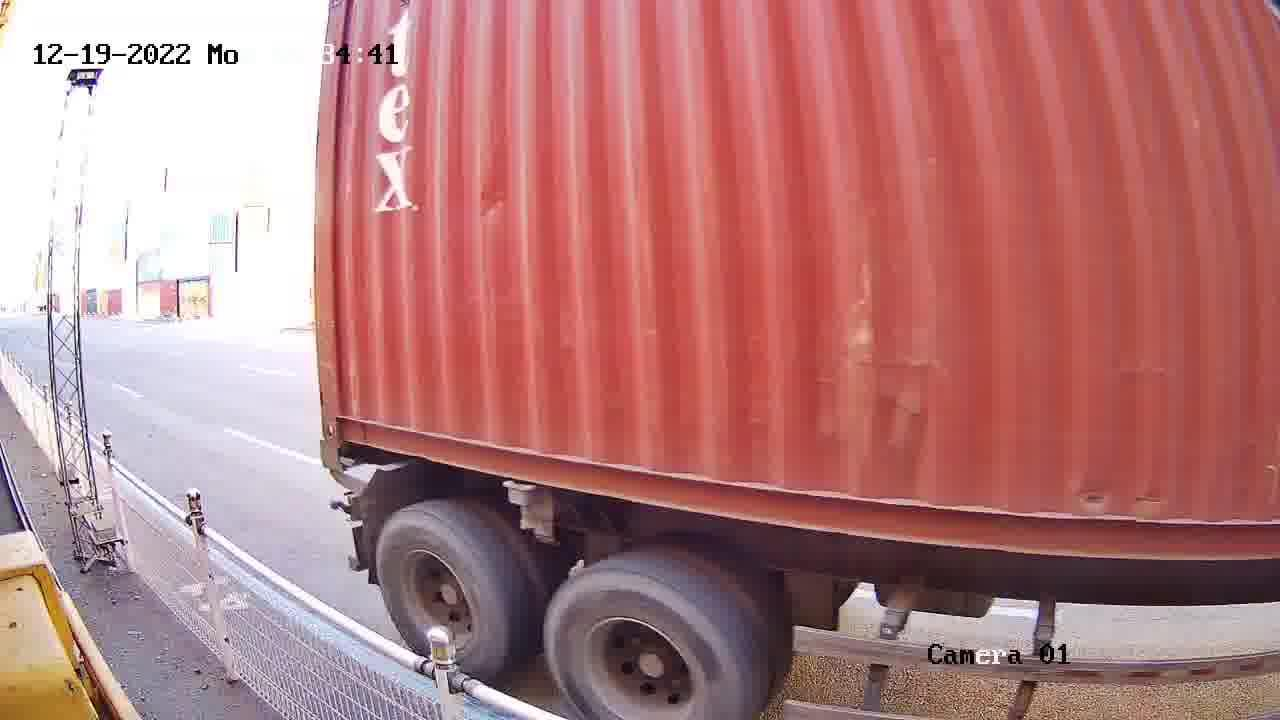Cone: (319, 440, 348, 473)
Hole_L: (322, 386, 371, 446)
Tire: (547, 577, 739, 716), (379, 516, 505, 674)
